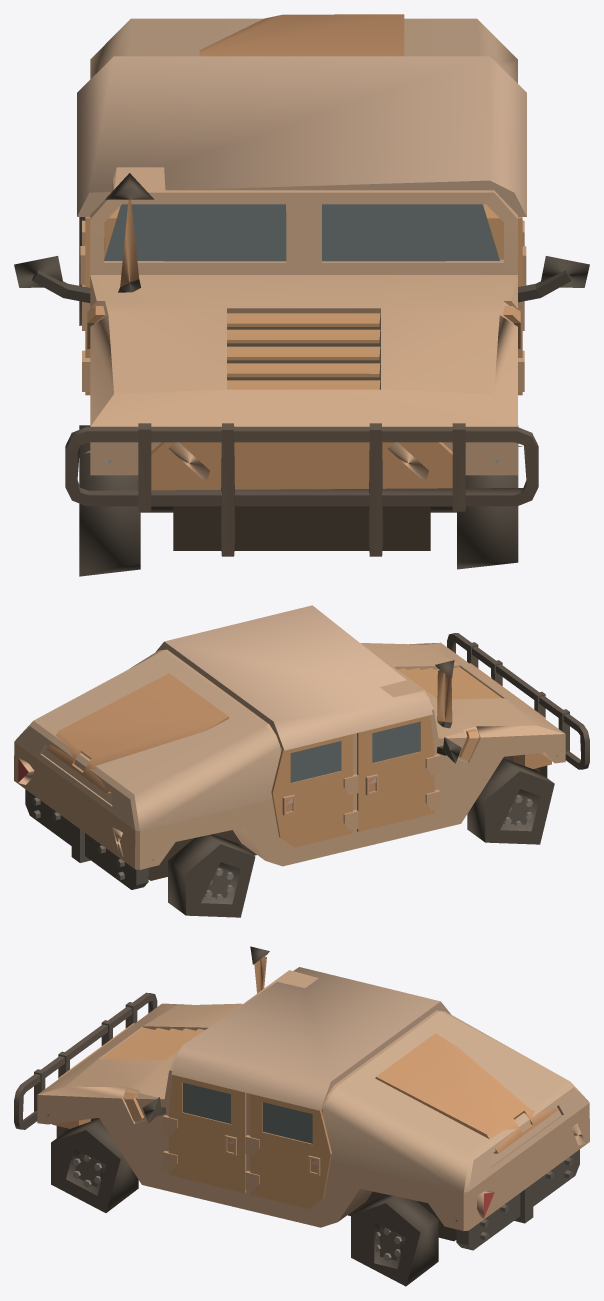
File: ds_humvee.glb
3 views of the same model, one above another, from view 1: azimuth 30°, elevation 25°; view 2: azimuth 150°, elevation 25°; view 3: azimuth 270°, elevation 25° (orthographic). The views are drawn at different scales.
Visible parts, largest first — view 1: ds_humvee; view 2: ds_humvee; view 3: ds_humvee.
Part boxes in pixels (x1=…): ds_humvee: x1=14, y1=14, x2=589, y2=576; ds_humvee: x1=14, y1=605, x2=589, y2=917; ds_humvee: x1=14, y1=946, x2=589, y2=1286.
Bounding box in the file's own units: 4.03 × 1.81 × 4.79.
